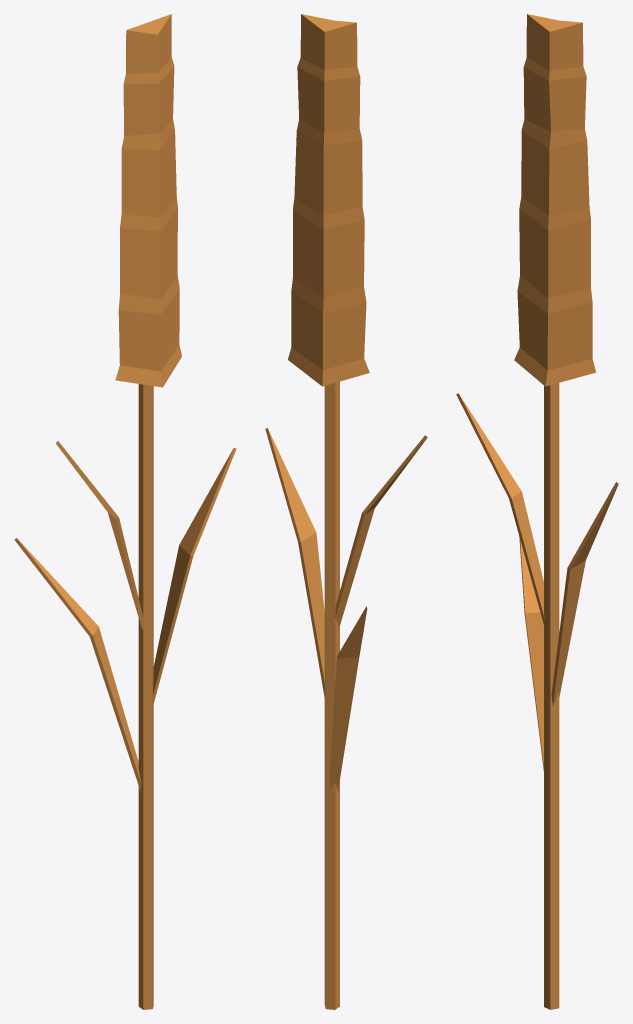
The model's file is wheat2.fbx.
The picture shows the model from 3 angles, left to right: view 1: azimuth 30°, elevation 25°; view 2: azimuth 150°, elevation 25°; view 3: azimuth 330°, elevation 25°; orthographic projection.
Visible parts, largest first — view 1: wheat2; view 2: wheat2; view 3: wheat2.
Part boxes in pixels (x1,y1,x2,y2): wheat2: (14,14,236,1009); wheat2: (265,14,427,1009); wheat2: (456,14,618,1009).
Size of the model in its own units: 54.12 by 297 by 34.38.
